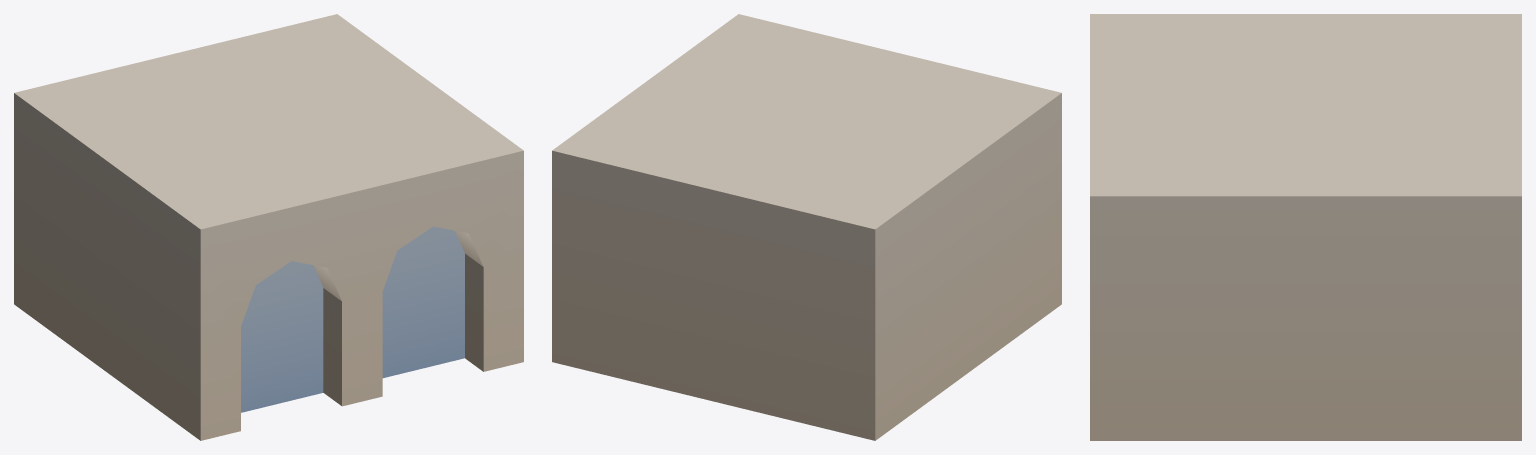
Rendered from building-windows-high-top-round.glb.
3 views of the same model, side by side, from view 1: azimuth 30°, elevation 25°; view 2: azimuth 150°, elevation 25°; view 3: azimuth 270°, elevation 25° (orthographic). The views are drawn at different scales.
Parts seen in each view (by area): view 1: building-windows-high-top-round; view 2: building-windows-high-top-round; view 3: building-windows-high-top-round.
Boxes of the visible parts, left/top/right/bottom form: building-windows-high-top-round: left=14, top=14, right=523, bottom=440; building-windows-high-top-round: left=552, top=14, right=1061, bottom=440; building-windows-high-top-round: left=1090, top=14, right=1521, bottom=440.
Size of the model in its own units: 1 by 0.625 by 1.
